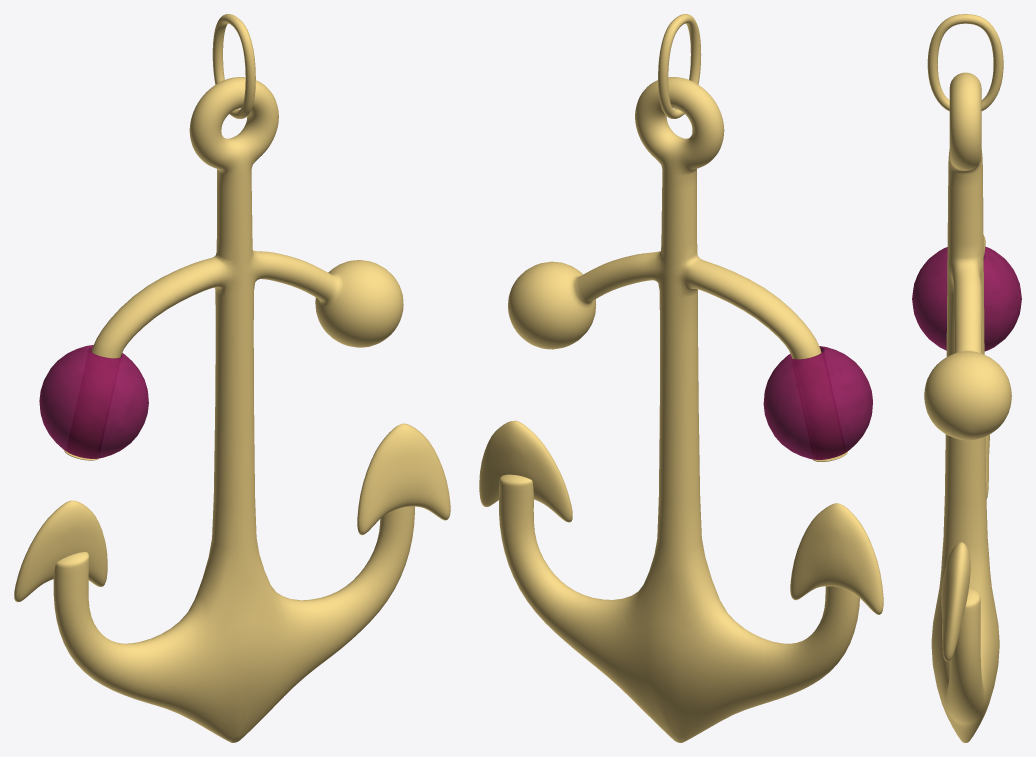
File: anchor.glb
3 views of the same model, side by side, from view 1: azimuth 30°, elevation 25°; view 2: azimuth 150°, elevation 25°; view 3: azimuth 270°, elevation 25° (orthographic).
Parts seen in each view (by area): view 1: anchor_gold, anchor_stone; view 2: anchor_gold, anchor_stone; view 3: anchor_gold, anchor_stone.
Boxes of the visible parts, <box> form: anchor_gold: <box>14,14,450,742</box>; anchor_stone: <box>39,345,148,458</box>; anchor_gold: <box>479,14,883,742</box>; anchor_stone: <box>763,346,872,459</box>; anchor_gold: <box>924,14,1011,742</box>; anchor_stone: <box>912,246,1021,351</box>.
Size of the model in its own units: 0.0112 by 0.0185 by 0.00253.
2 materials, 1 textured.
